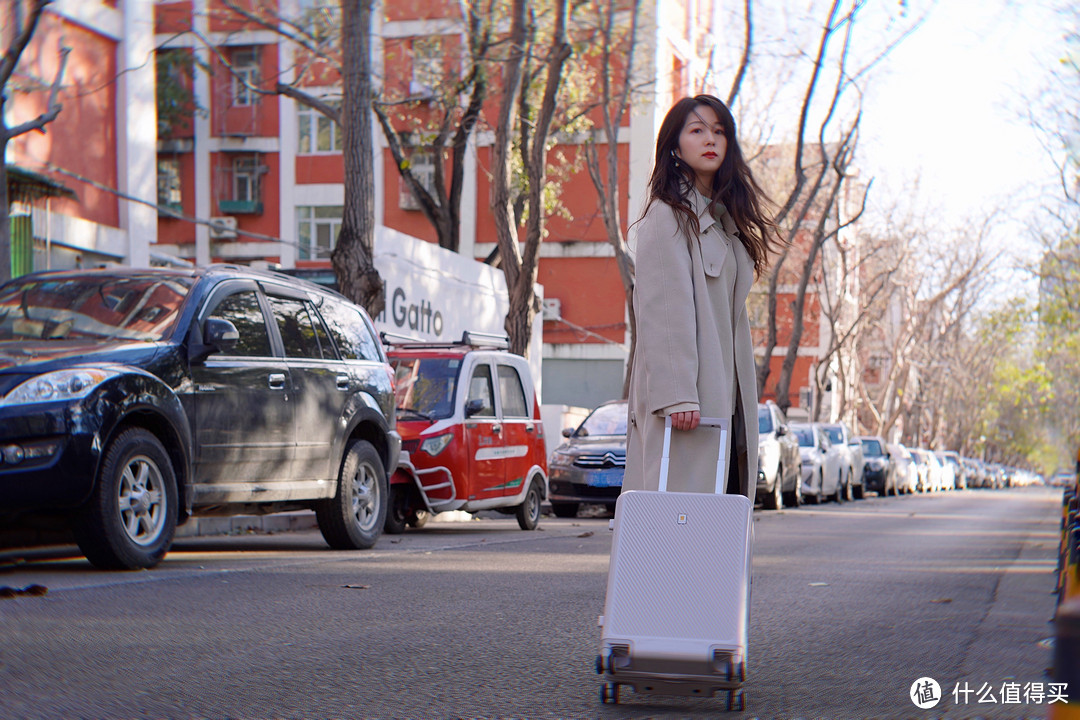box: (602, 490, 754, 697)
wheel: (594, 653, 618, 675), (725, 690, 747, 712), (725, 661, 747, 682), (599, 683, 620, 704)
